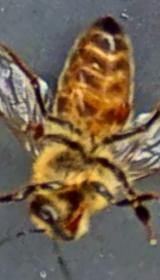varroa_mite: (110, 94, 132, 126)
